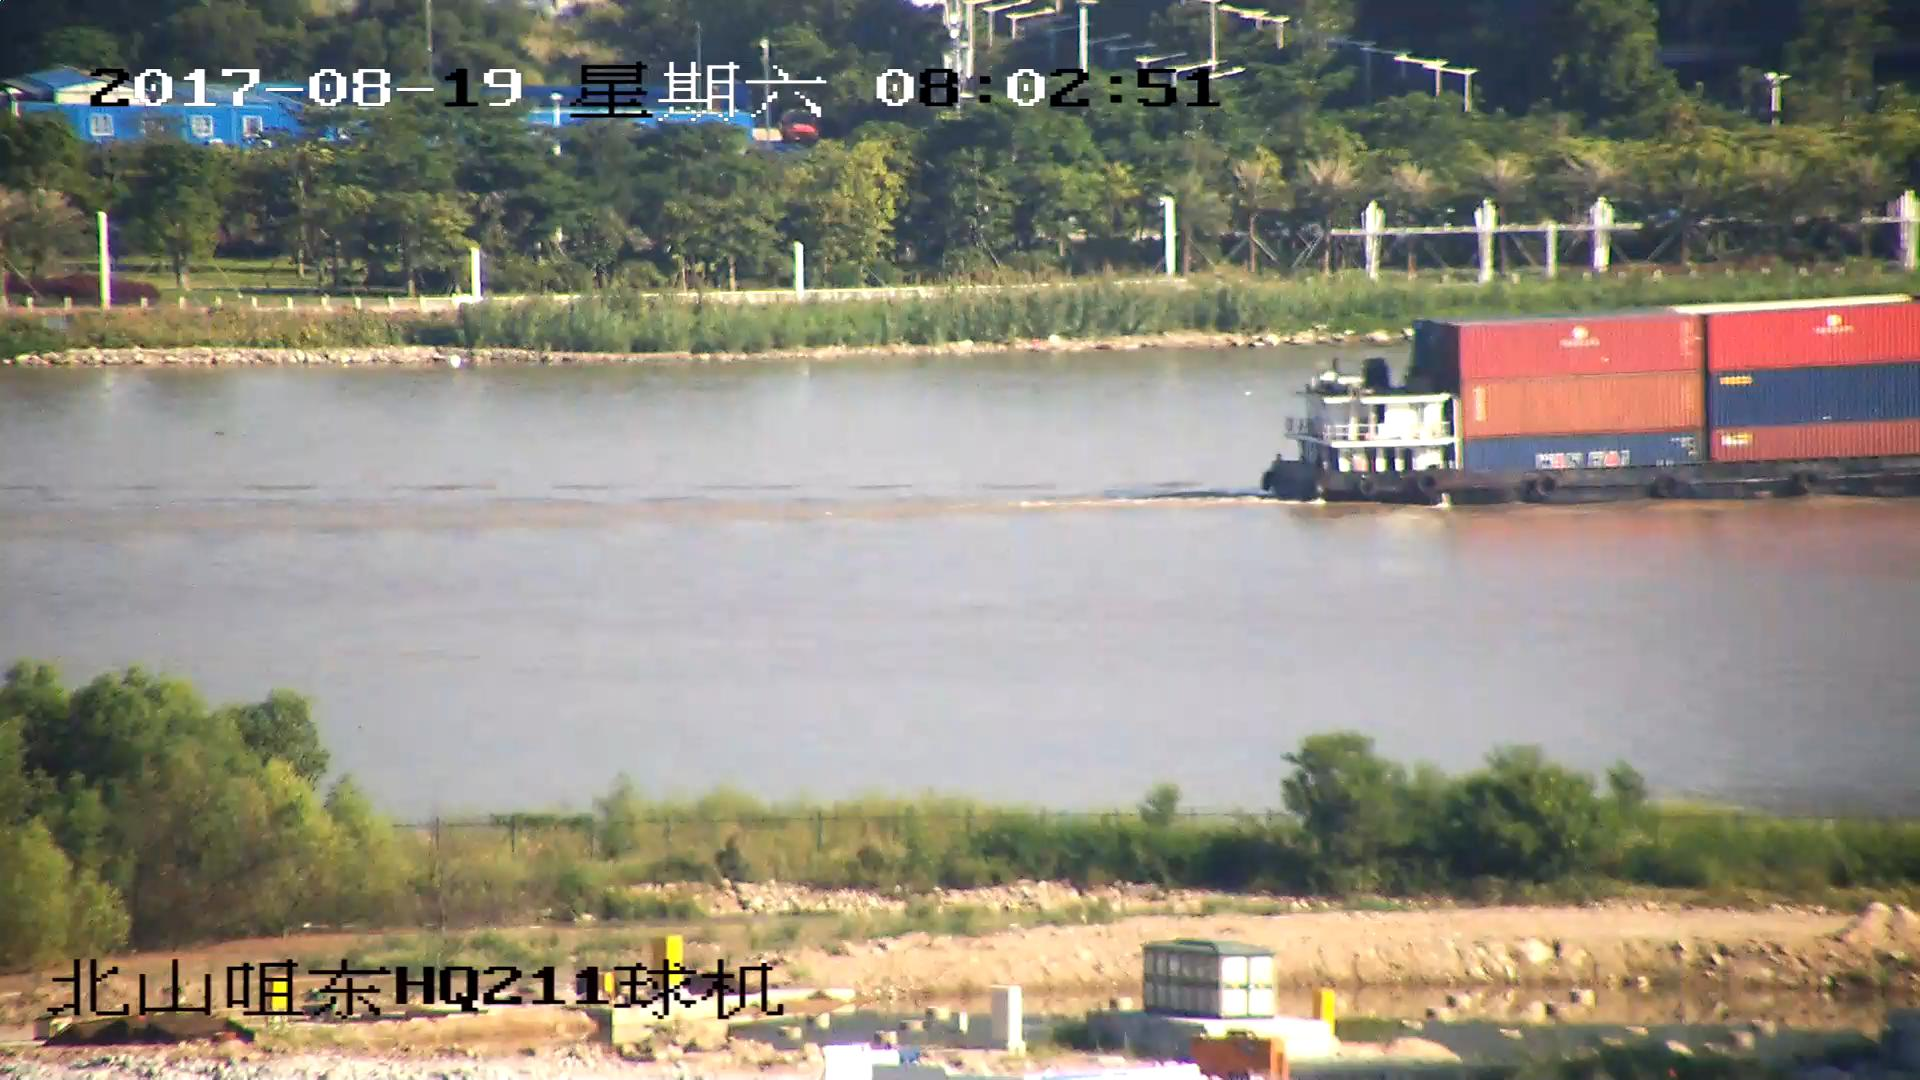container ship: (1257, 298, 1920, 508)
